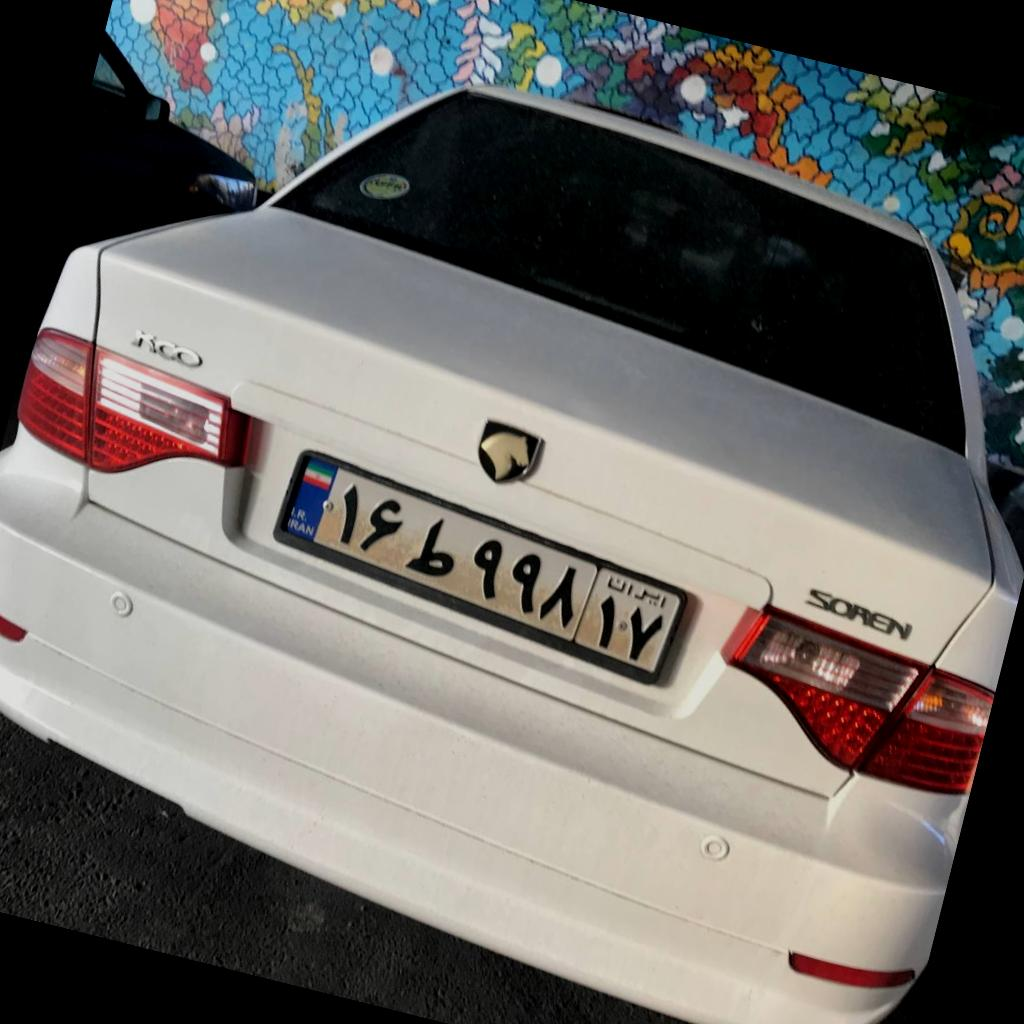Plates: (281, 452, 678, 672)
